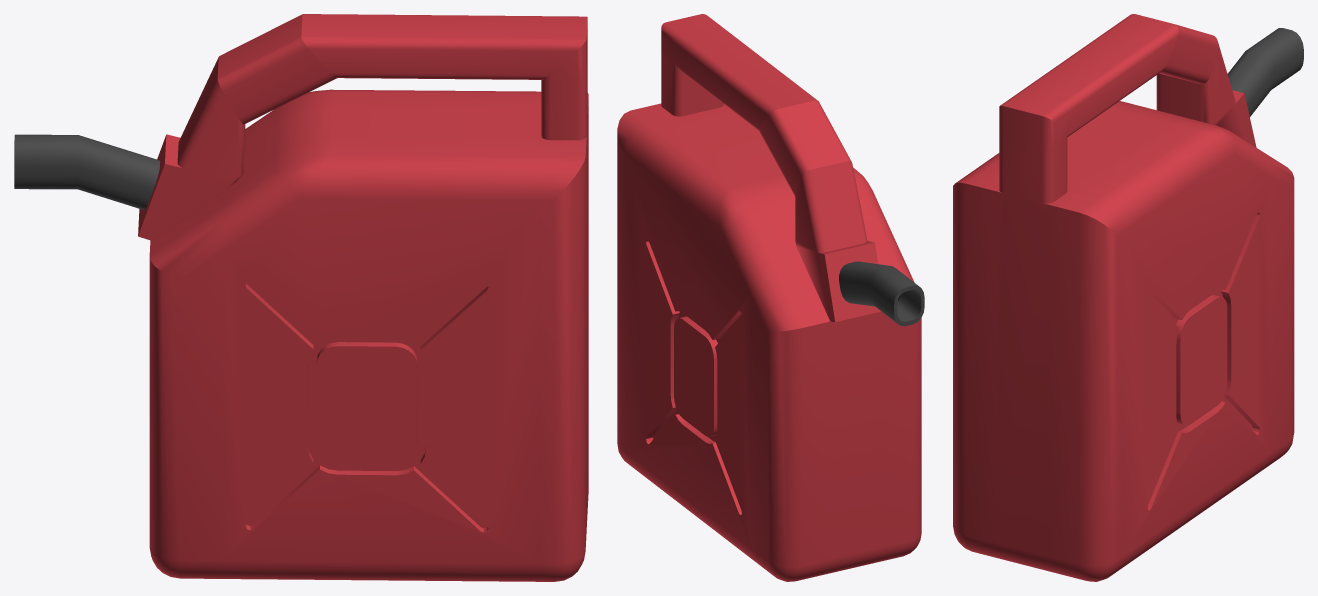
3 views of the same model, side by side, from view 1: azimuth 30°, elevation 25°; view 2: azimuth 150°, elevation 25°; view 3: azimuth 270°, elevation 25° (orthographic). The views are drawn at different scales.
Parts seen in each view (by area): view 1: Storage fuel.002_3766; view 2: Storage fuel.002_3766; view 3: Storage fuel.002_3766.
Part boxes in pixels (x1,y1,x2,y2): Storage fuel.002_3766: (14, 14, 588, 581); Storage fuel.002_3766: (617, 14, 924, 581); Storage fuel.002_3766: (953, 14, 1303, 581).
Size of the model in its own units: 4.19 by 4.42 by 3.03.
